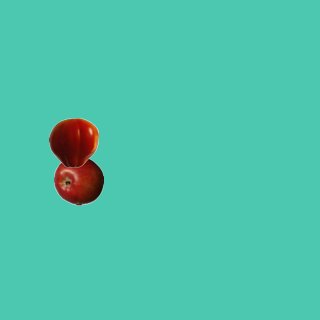Apple Braeburn: (53, 155, 103, 205)
Tomato 1: (48, 117, 98, 167)
